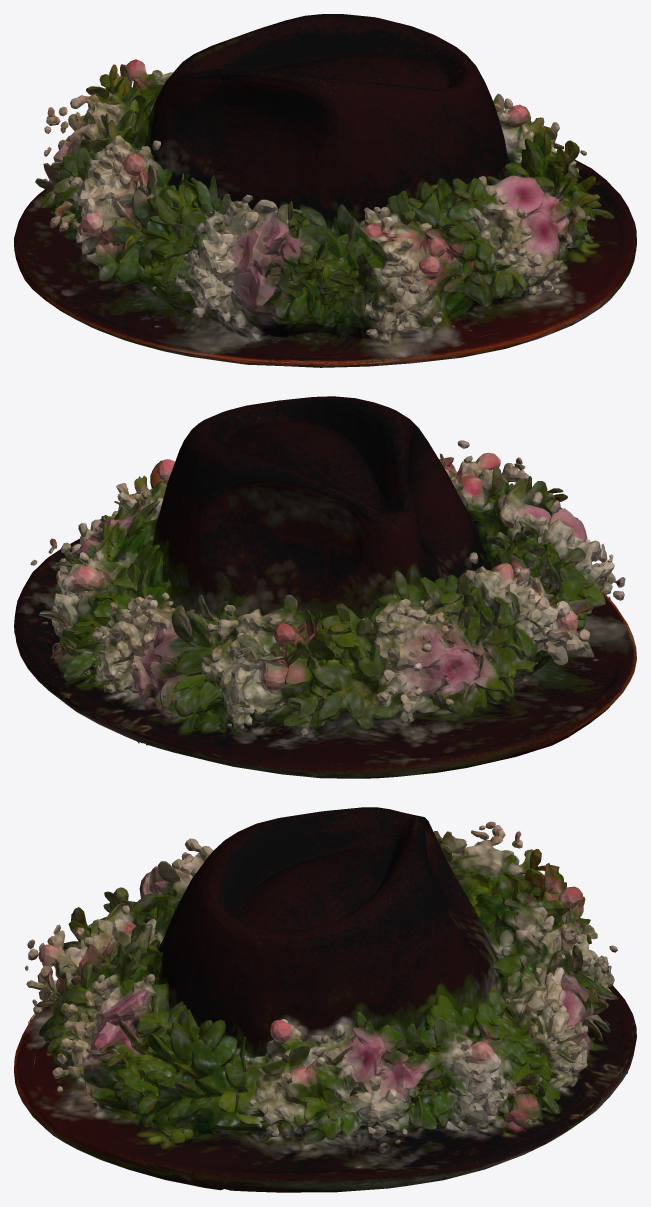
3 views of the same model, one above another, from view 1: azimuth 30°, elevation 25°; view 2: azimuth 150°, elevation 25°; view 3: azimuth 270°, elevation 25° (orthographic). The views are drawn at different scales.
Visible parts, largest first — view 1: Blumenkranz_Luisa_54k_2k; view 2: Blumenkranz_Luisa_54k_2k; view 3: Blumenkranz_Luisa_54k_2k.
Boxes of the visible parts, x1,y1,x2,y2 form: Blumenkranz_Luisa_54k_2k: (14, 14, 636, 367); Blumenkranz_Luisa_54k_2k: (14, 396, 636, 778); Blumenkranz_Luisa_54k_2k: (14, 807, 636, 1192).
Size of the model in its own units: 0.3363 by 0.1236 by 0.3182.
1 material, 1 textured.
